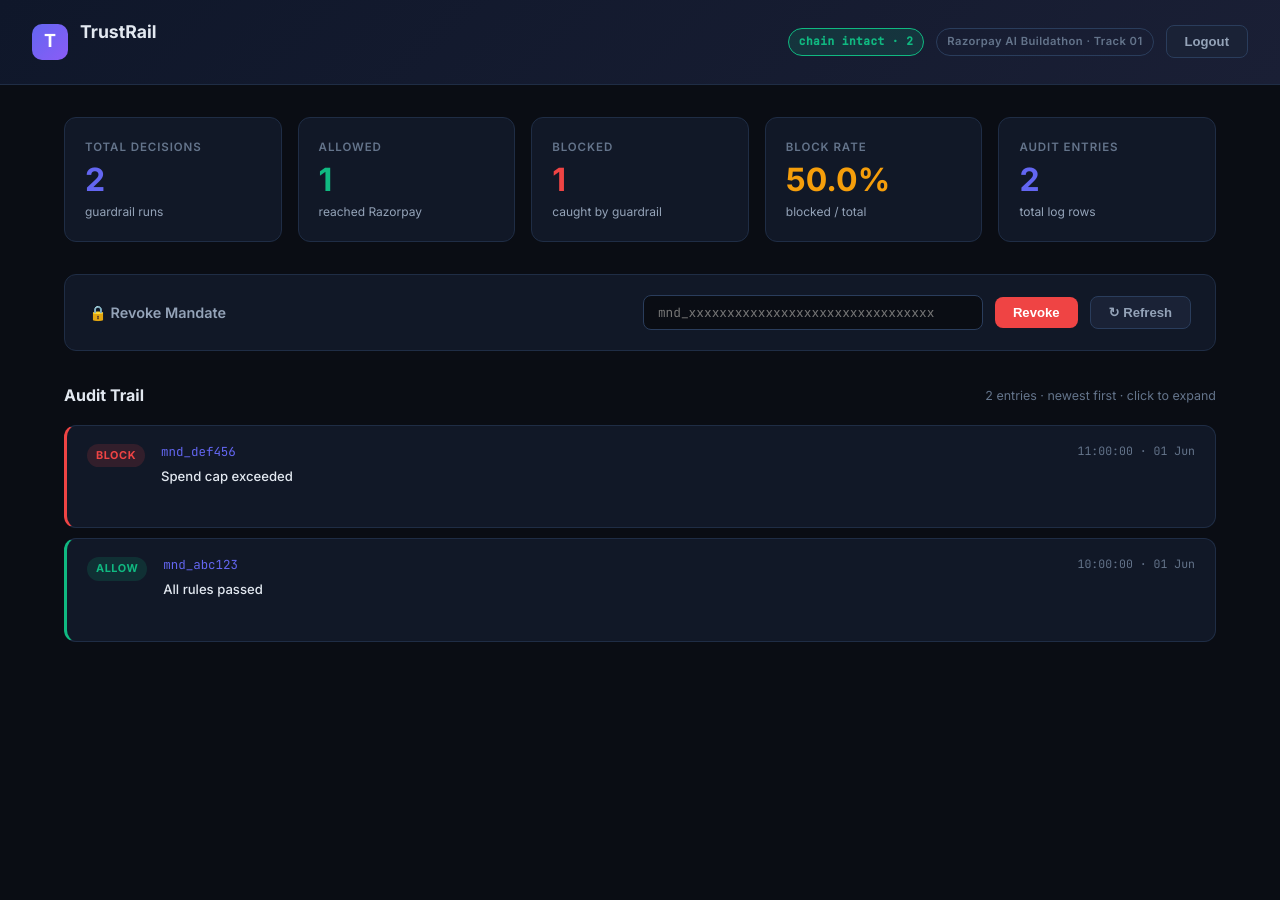
Test: App – dashboard (authenticated) › expands an audit entry on click to reveal rule pills
The width and height of the screenshot is (1280, 900).
Click the first audit entry to expand it
Click the text "mnd_abc123". click: point(201, 565)
box: [163,556,238,573]
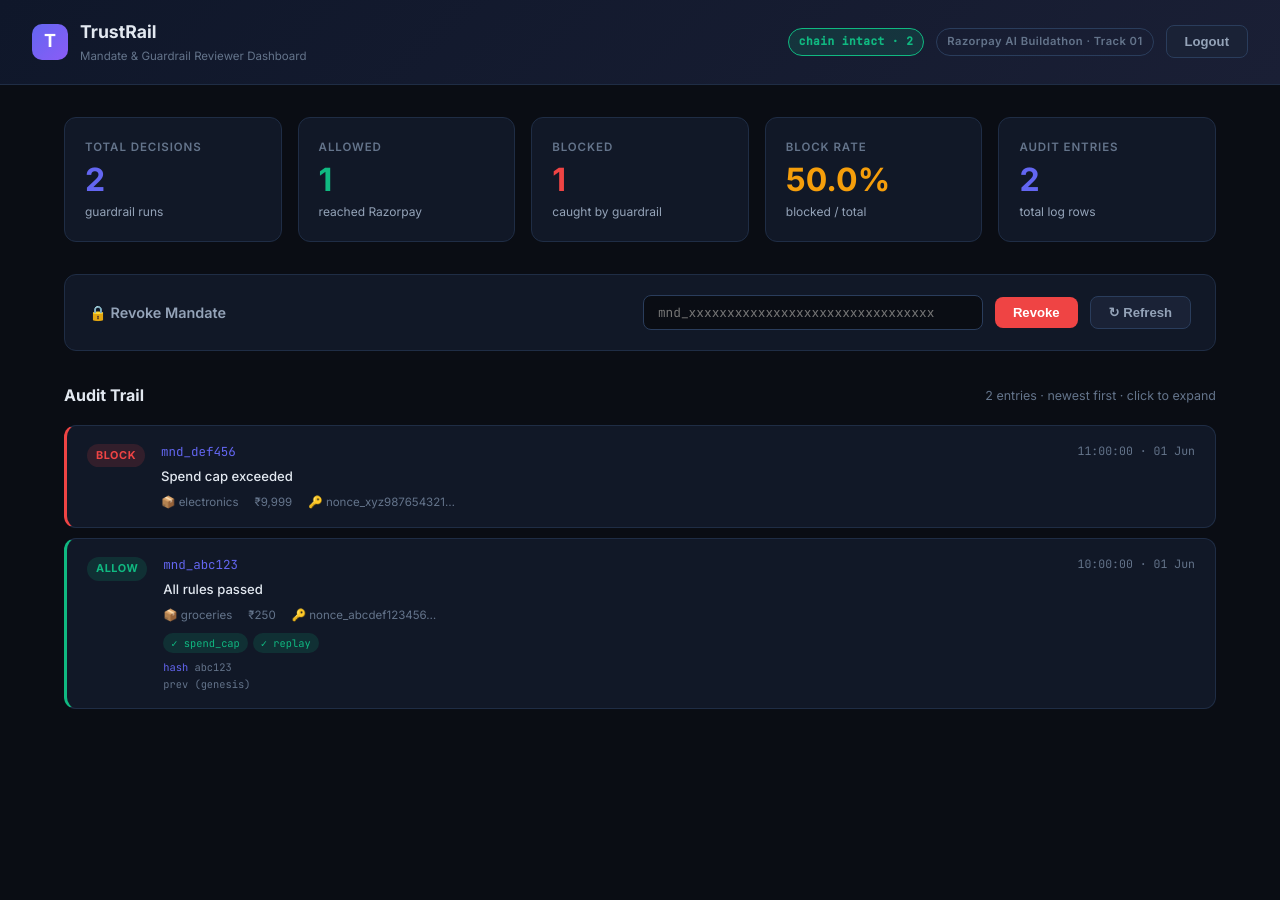
Now the text "✓ spend_cap" is shown, box [163,632,248,653]
Now the text "✓ replay" is shown, box [253,632,319,653]
